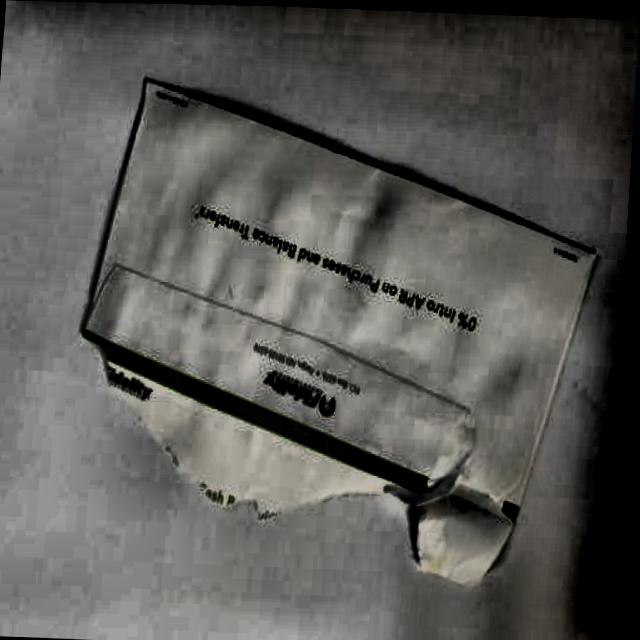Paper: (49, 43, 632, 595)
